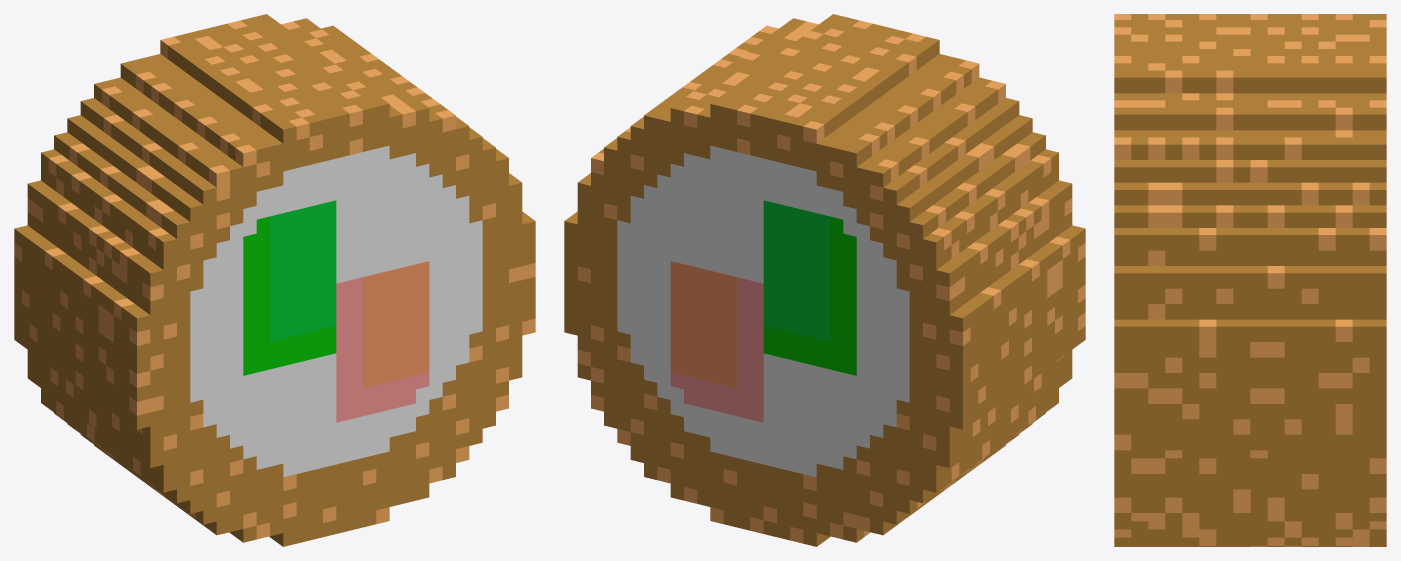
The model's file is Sushi 6.obj.
3 renders of one model, left to right at view 1: azimuth 30°, elevation 25°; view 2: azimuth 150°, elevation 25°; view 3: azimuth 270°, elevation 25°, orthographic. The views are drawn at different scales.
Bounding box in the file's own units: 3 × 3 × 1.6.
1 material, 1 textured.
